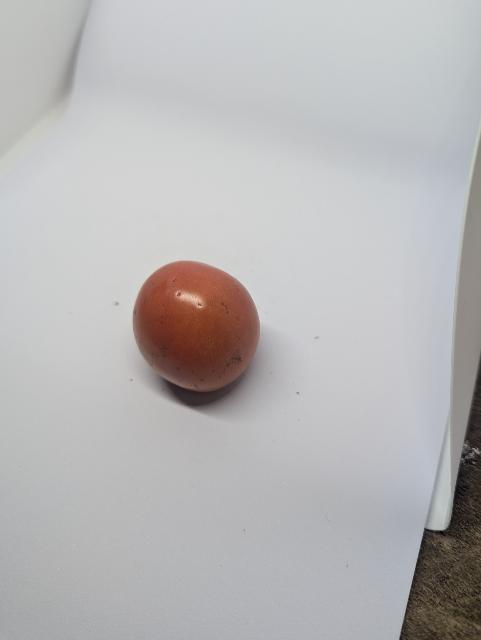red: (124, 249, 283, 409)
